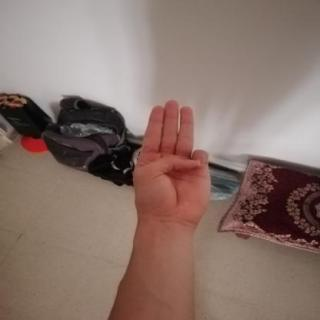THA: (120, 93, 227, 232)
